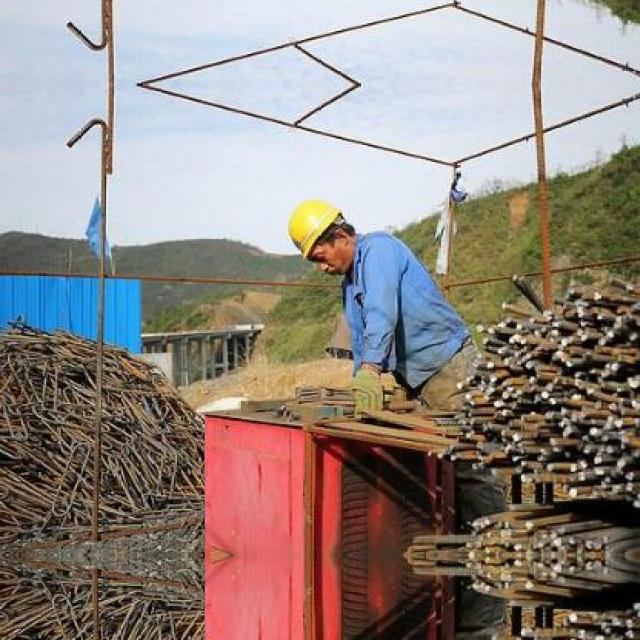helmet: (279, 192, 364, 275)
